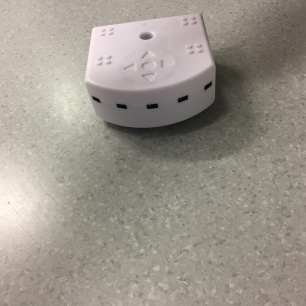thymio: (84, 11, 221, 131)
